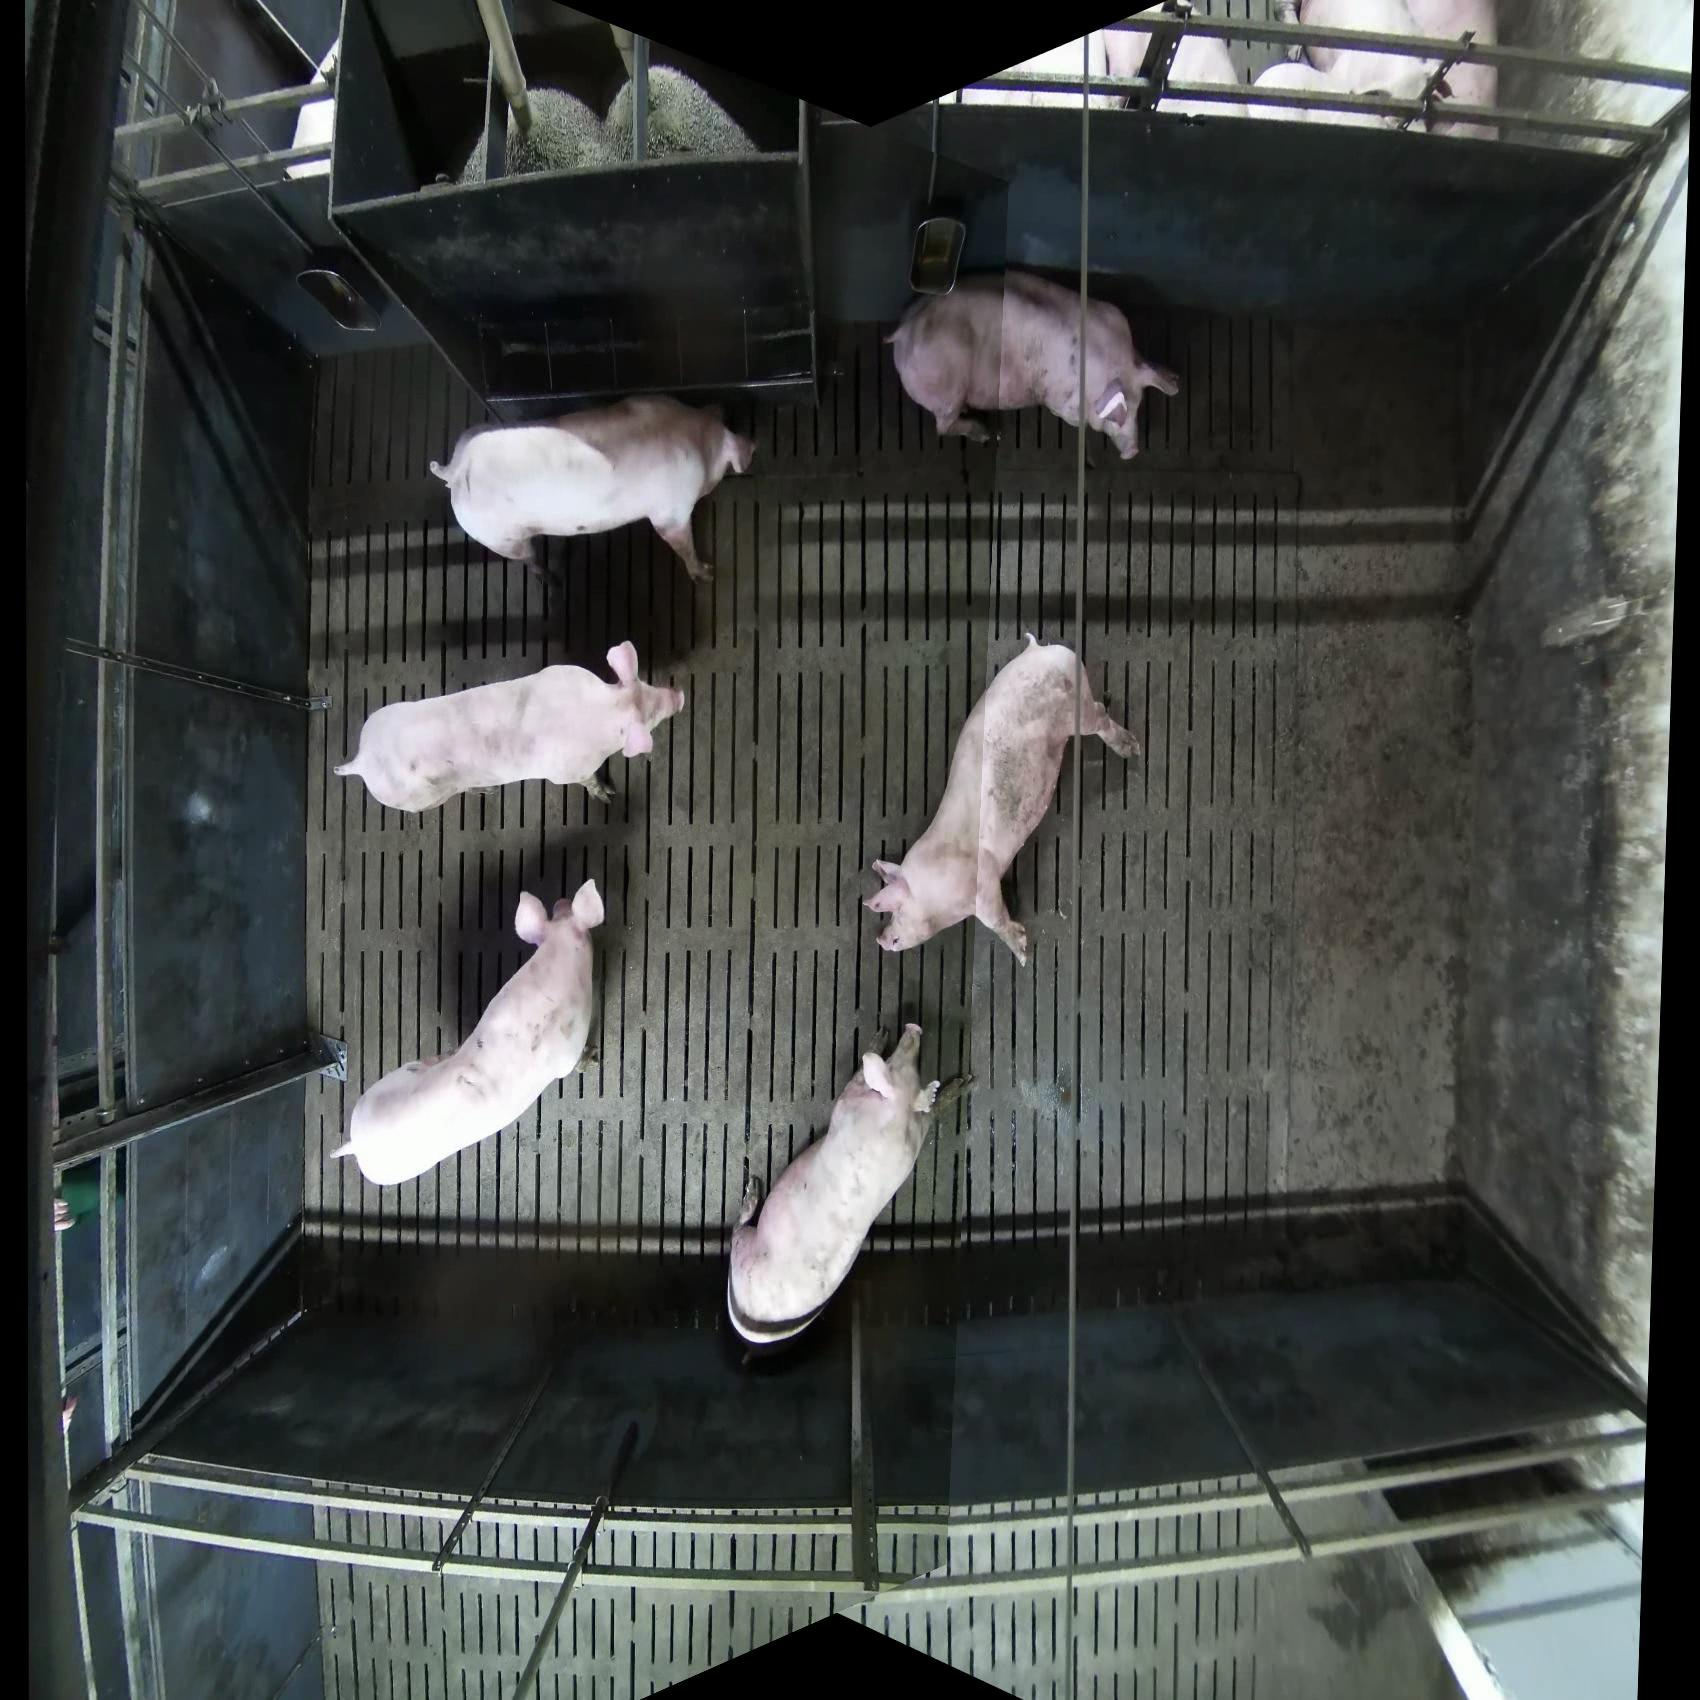pig: (862, 630, 1143, 971), (328, 880, 606, 1188), (724, 1021, 953, 1347), (428, 392, 758, 588), (335, 638, 687, 816), (884, 268, 1182, 462), (1249, 2, 1501, 139), (1094, 19, 1247, 121), (456, 87, 615, 184), (286, 34, 342, 184)
